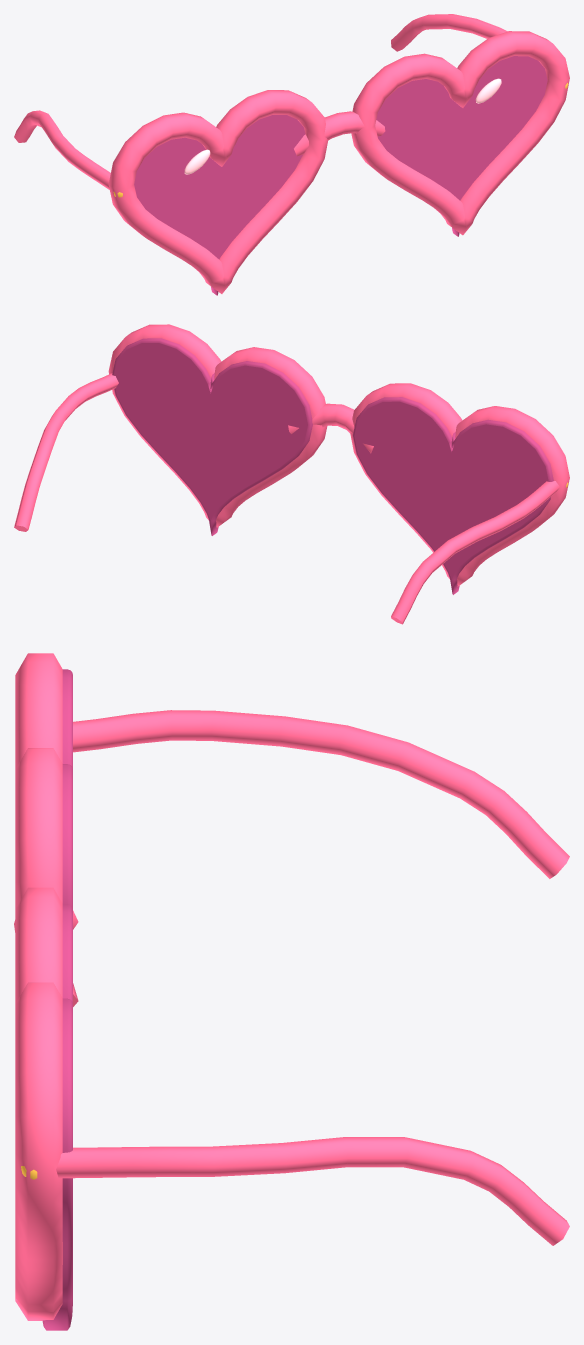
The model's file is love_letters.glb.
The picture shows the model from 3 angles, top to bottom: view 1: azimuth 30°, elevation 25°; view 2: azimuth 150°, elevation 25°; view 3: azimuth 270°, elevation 25°; orthographic projection. The views are drawn at different scales.
Parts seen in each view (by area): view 1: Love Letter Lenses; view 2: Love Letter Lenses; view 3: Love Letter Lenses.
Part boxes in pixels (bbox=[...]): Love Letter Lenses: bbox=[14, 14, 569, 295]; Love Letter Lenses: bbox=[14, 324, 569, 624]; Love Letter Lenses: bbox=[14, 653, 569, 1330].
Bounding box in the file's own units: 1 × 0.3972 × 0.5229.
